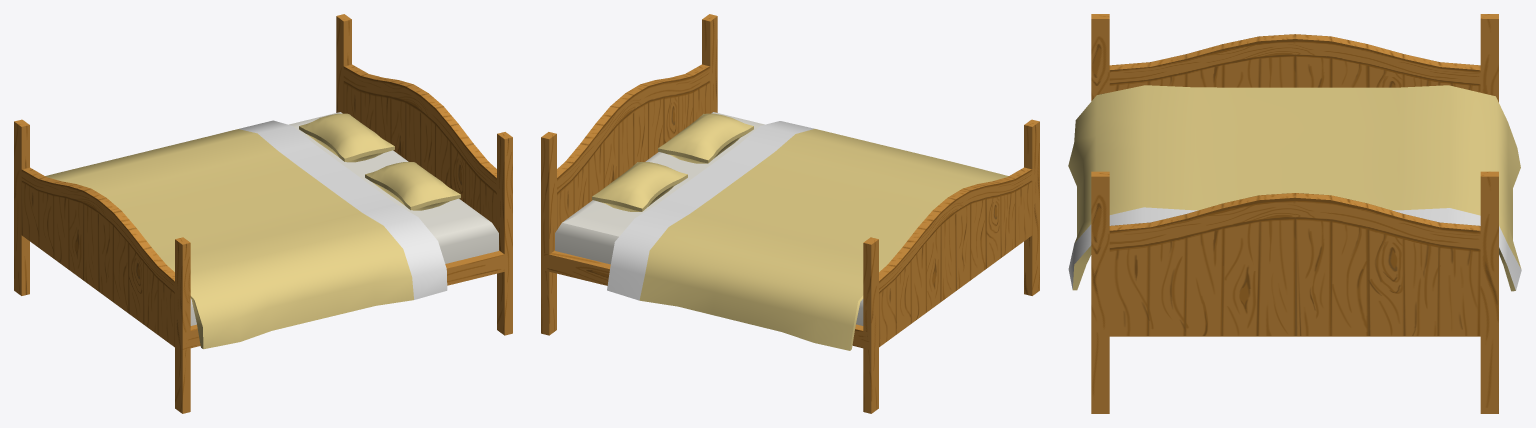
The model's file is DoubleBed.fbx.
3 views of the same model, side by side, from view 1: azimuth 30°, elevation 25°; view 2: azimuth 150°, elevation 25°; view 3: azimuth 270°, elevation 25° (orthographic). The views are drawn at different scales.
Parts seen in each view (by area): view 1: singleBed_bottom_frame; view 2: singleBed_bottom_frame; view 3: singleBed_bottom_frame.
Boxes of the visible parts, x1,y1,x2,y2 form: singleBed_bottom_frame: [14, 14, 512, 413]; singleBed_bottom_frame: [541, 14, 1039, 413]; singleBed_bottom_frame: [1068, 14, 1521, 413].
Bounding box in the file's own units: 34.85 × 19.79 × 34.24.
